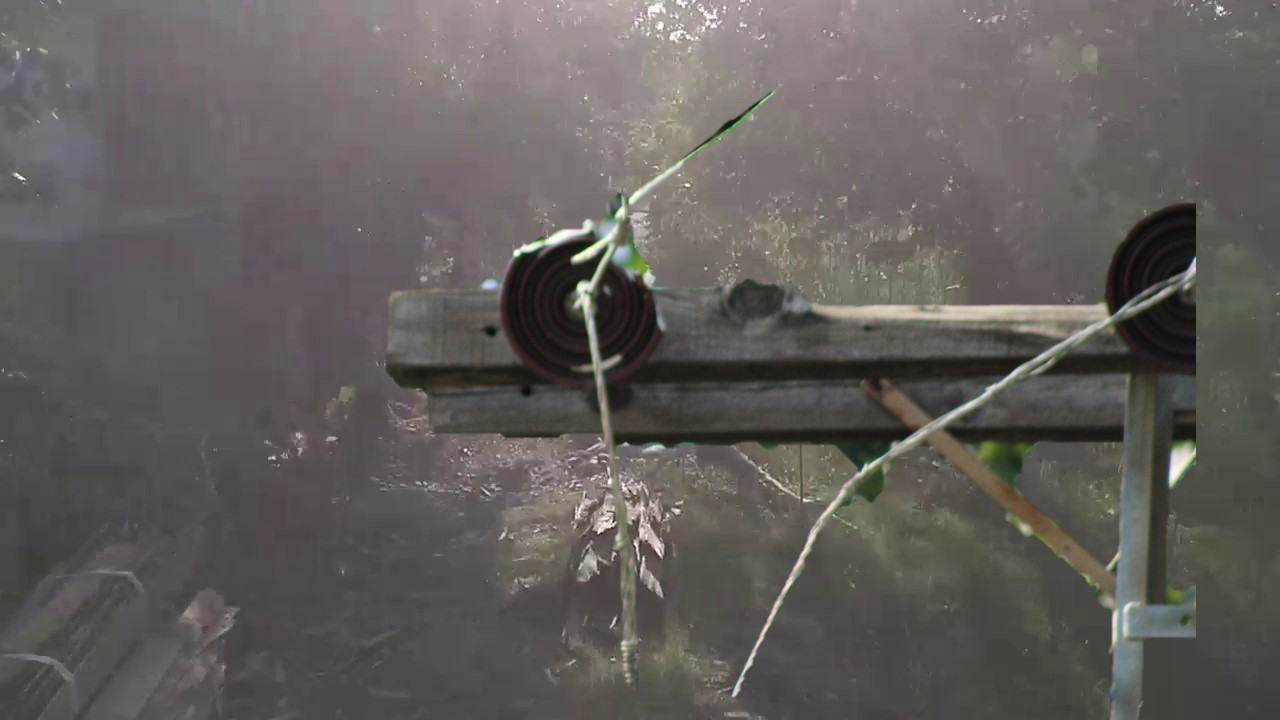defect_disc: (493, 218, 677, 397)
